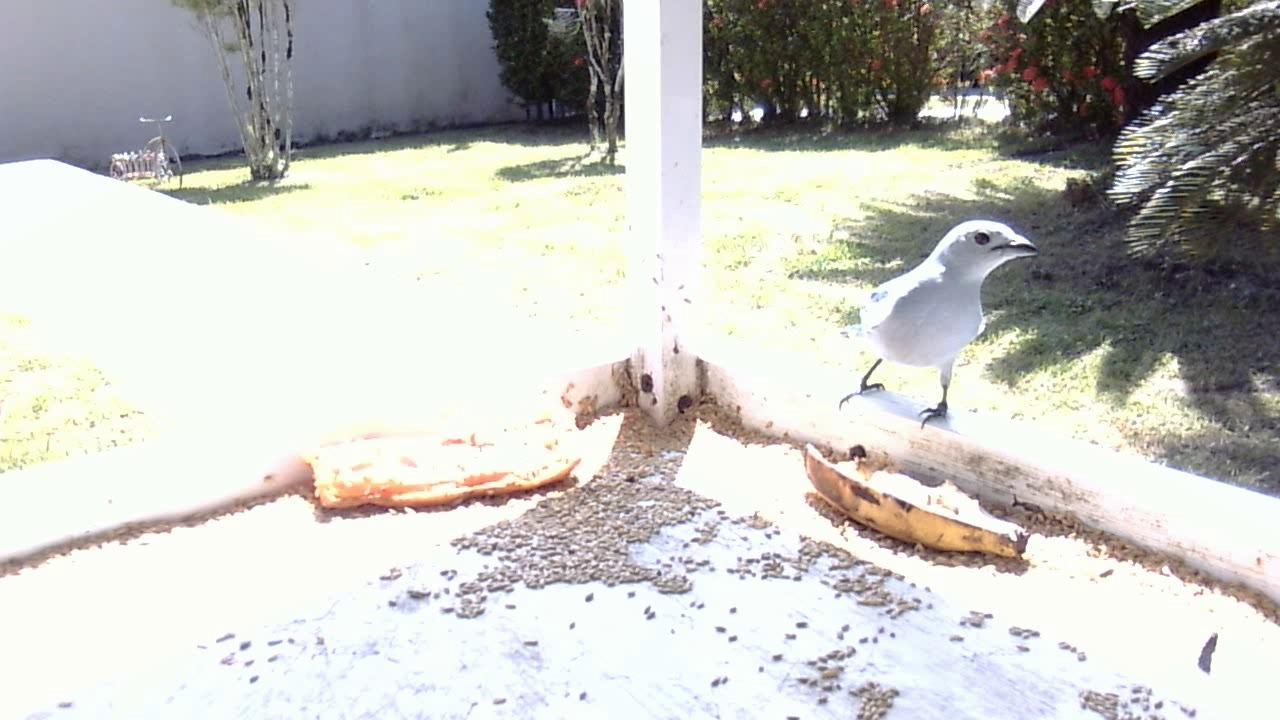sanhaco_da_amazonia: (837, 214, 1043, 436)
